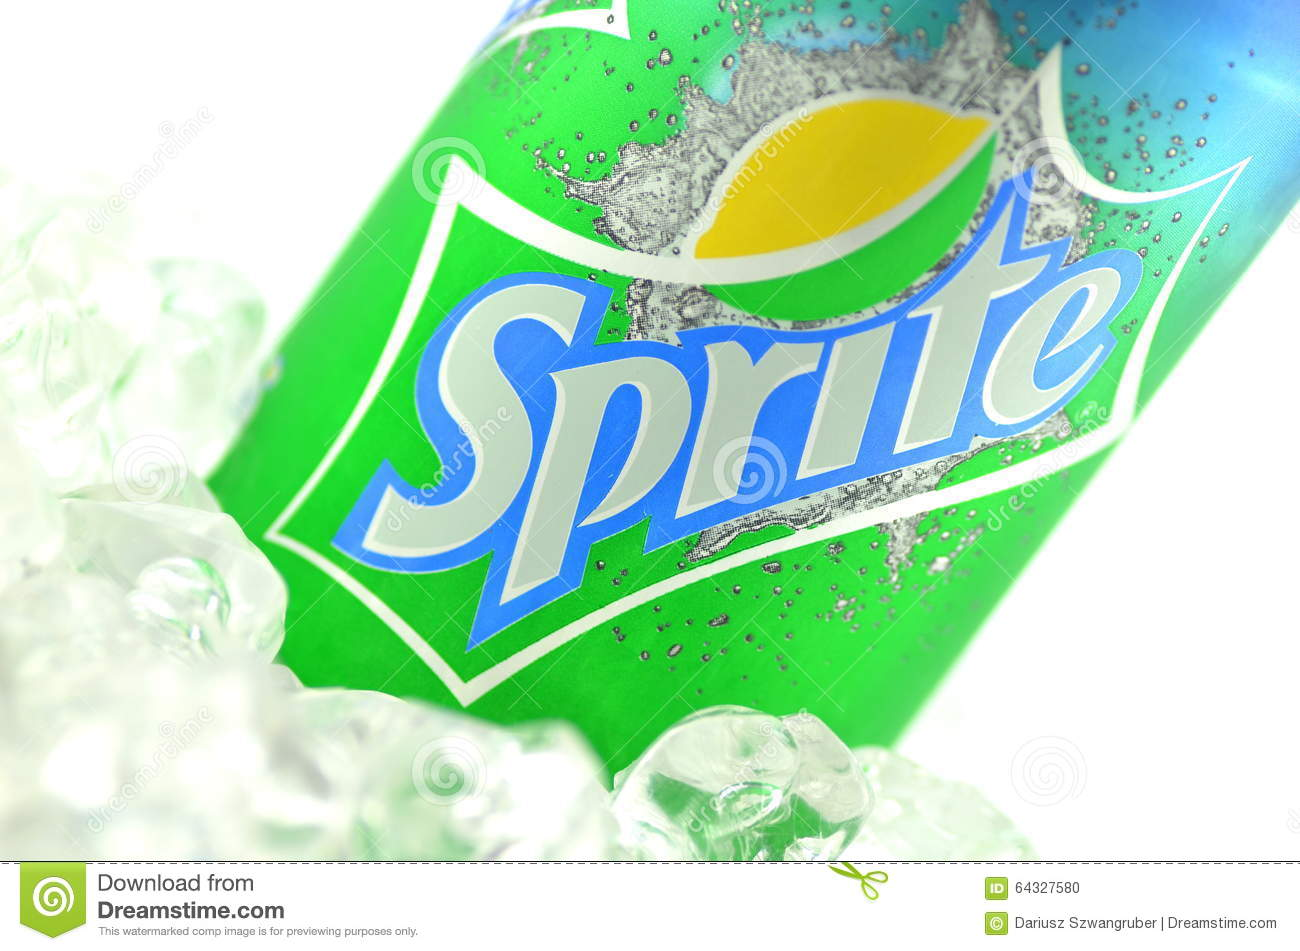sprite: (353, 187, 1118, 604), (359, 187, 1118, 604)
